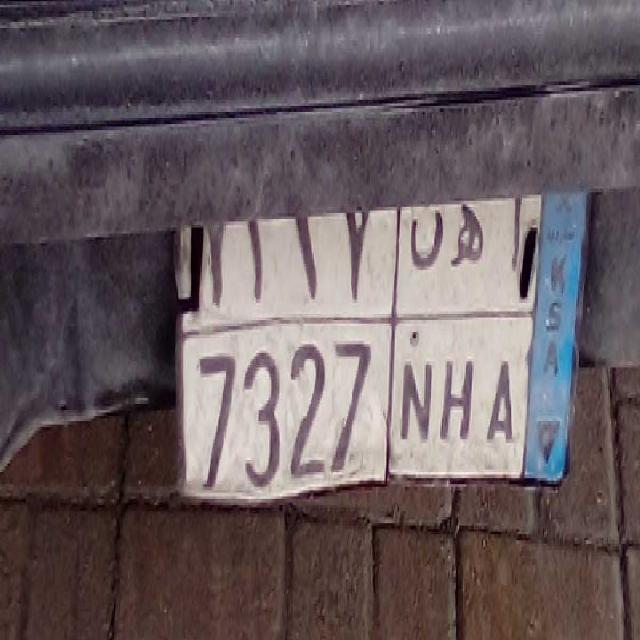license_plate: (191, 314, 521, 493)
